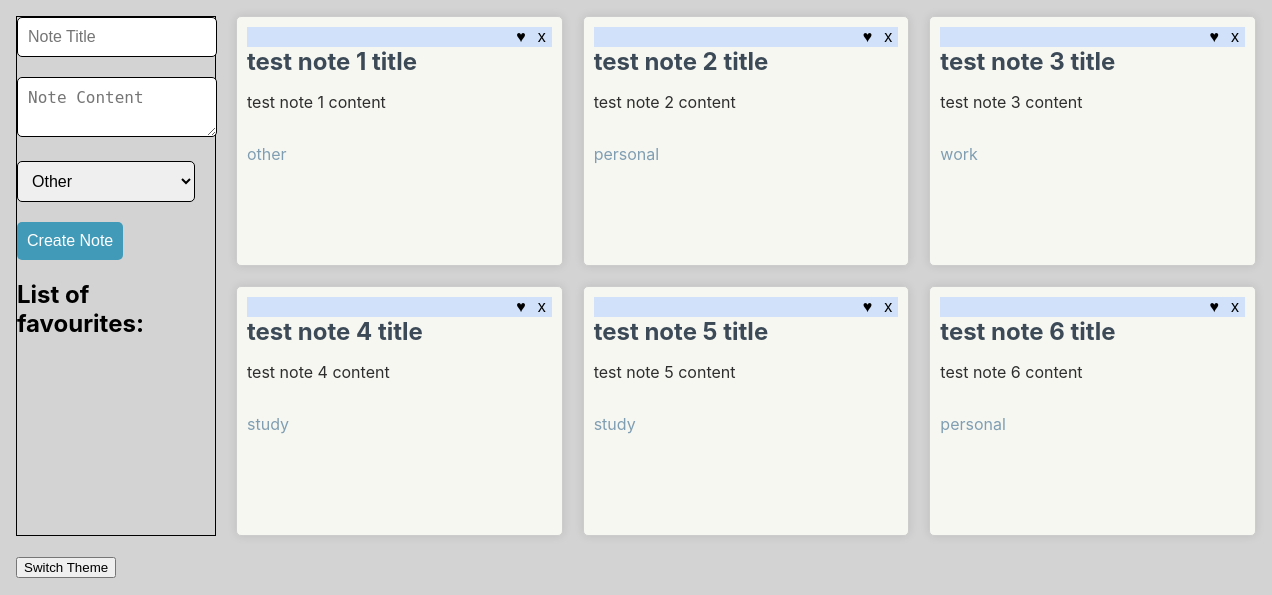
it: the list of favorites is correctly updated when the button is clicked
The image size is (1272, 595).
Click the button with test id "favorite-note-2". click: (868, 37)
box: [857, 27, 878, 47]
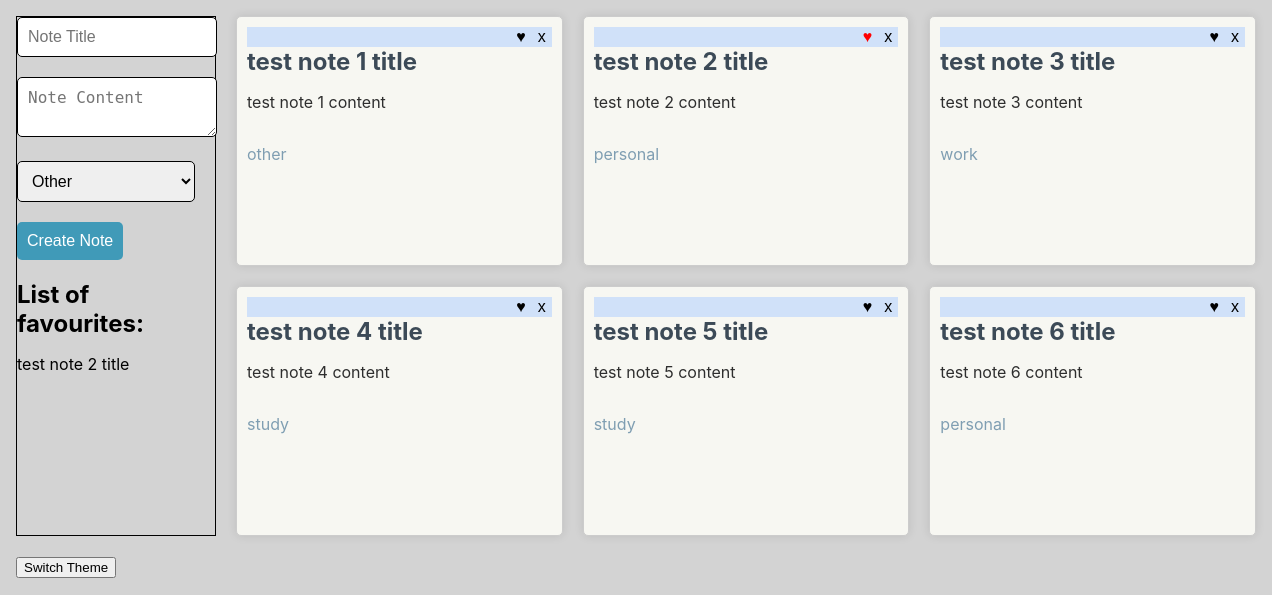
expect the element with test id "favorite-title" reads "test note 2 title": met, box [17, 354, 129, 374]
